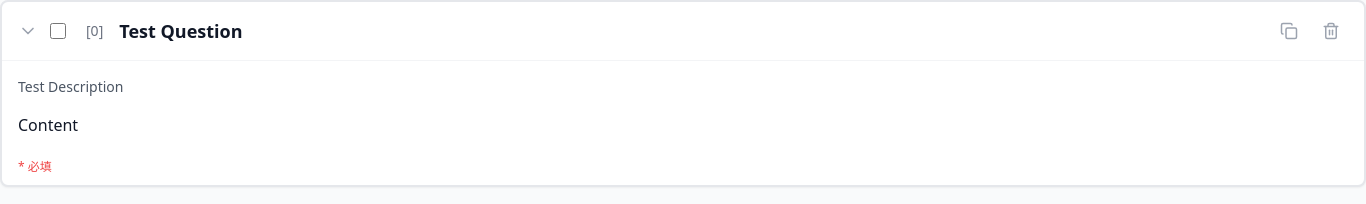
Test case: QuestionCard › Collapse/Expand › should collapse content when collapse button clicked
Expected: the text "Content" is shown, [18,114,78,136]
Click to collapse
Click the 1st button. click: (28, 31)
box: [18,21,38,41]
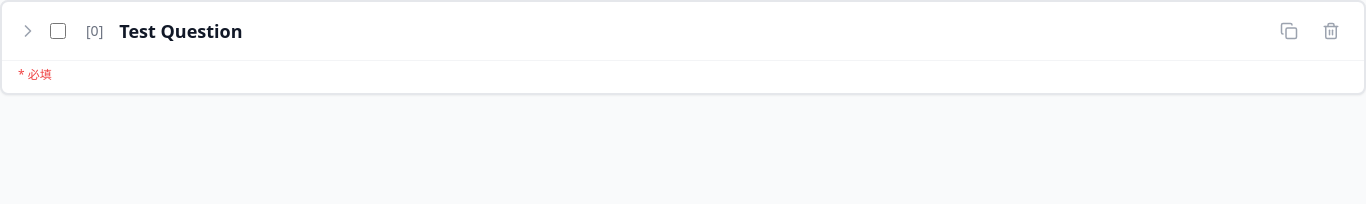
Result: the text "Content" is gone
